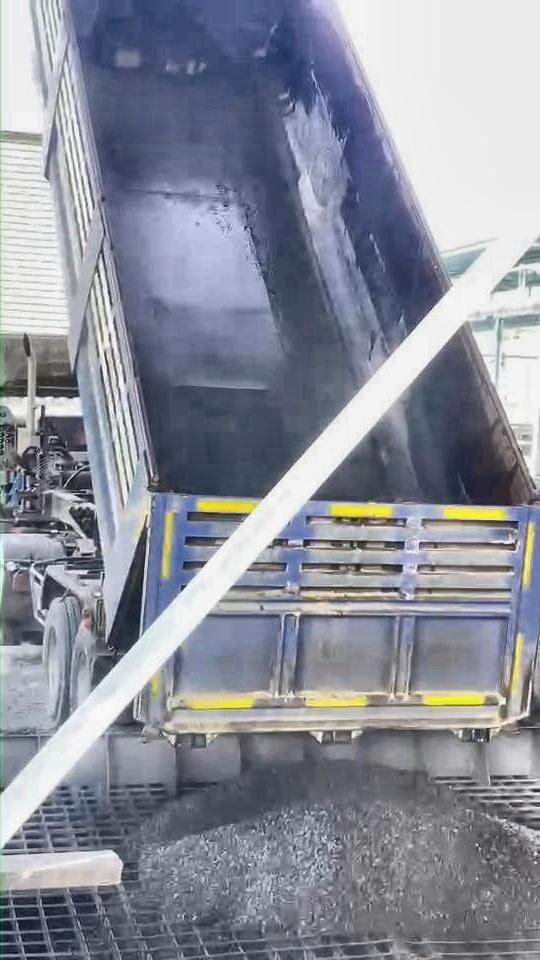gravel: (138, 761, 540, 939)
